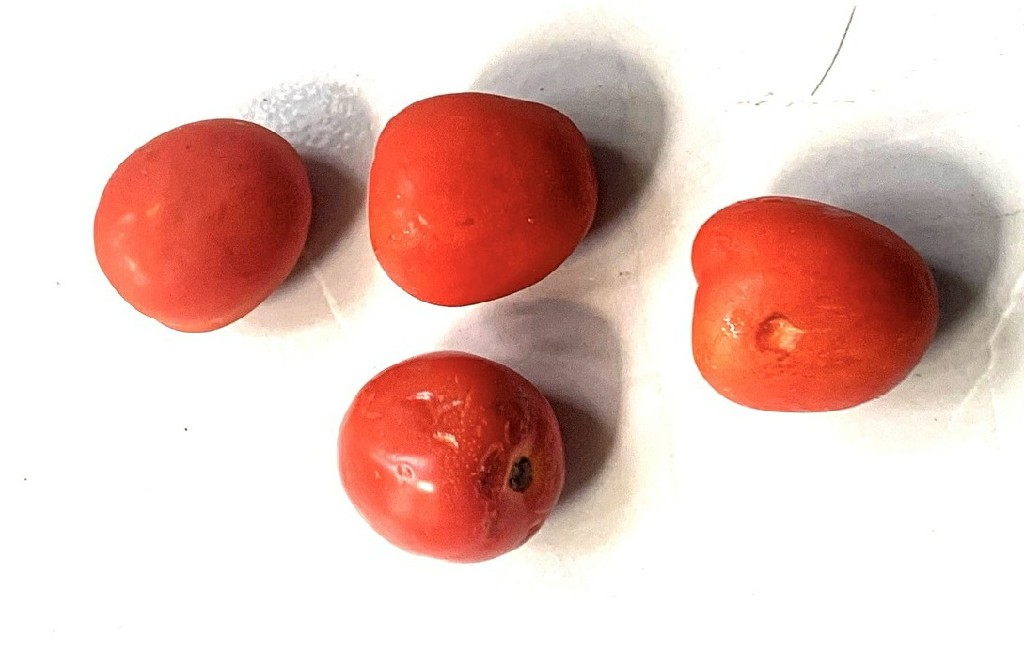NG: (320, 344, 571, 568), (687, 196, 939, 415)
OK: (358, 92, 595, 310), (88, 113, 316, 333)
